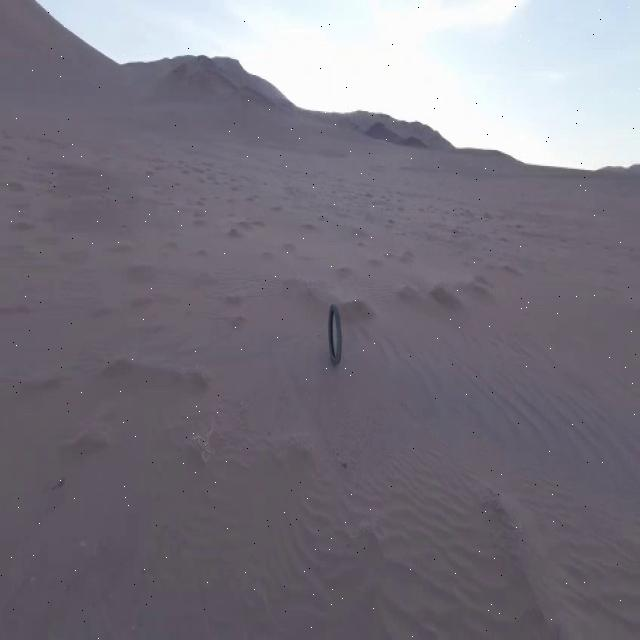Tire: (328, 305, 342, 364)
